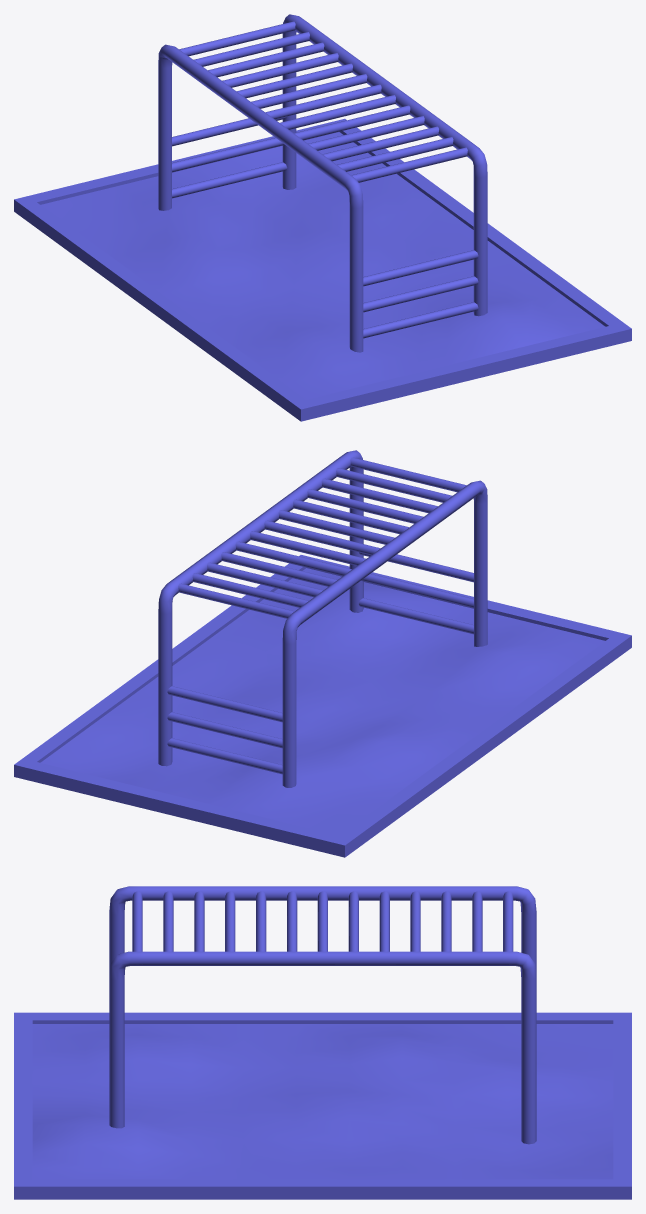
File: pasamanos.fbx
The picture shows the model from 3 angles, top to bottom: view 1: azimuth 30°, elevation 25°; view 2: azimuth 150°, elevation 25°; view 3: azimuth 270°, elevation 25°; orthographic projection. The views are drawn at different scales.
Parts seen in each view (by area): view 1: sm_arena.002, sm_separador_terreno.002, sm_pasamanos.001, sm_pasamanos.004, sm_pasamanos, sm_pasamanos.002, sm_pasamanos.003, sm_pasamanos.005, sm_pasamanos.008, sm_pasamanos.015, sm_pasamanos.009, sm_pasamanos.012 (+11 smaller); view 2: sm_arena.002, sm_separador_terreno.002, sm_pasamanos.001, sm_pasamanos.004, sm_pasamanos.006, sm_pasamanos.007, sm_pasamanos.005, sm_pasamanos, sm_pasamanos.020, sm_pasamanos.008, sm_pasamanos.011, sm_pasamanos.019 (+11 smaller); view 3: sm_arena.002, sm_separador_terreno.002, sm_pasamanos.004, sm_pasamanos.001, sm_pasamanos.008, sm_pasamanos.009, sm_pasamanos.010, sm_pasamanos.012, sm_pasamanos.013, sm_pasamanos.014, sm_pasamanos.016, sm_pasamanos.017 (+5 smaller).
Part boxes in pixels (x1,y1,x2,y2): sm_arena.002: [41, 132, 605, 399]; sm_separador_terreno.002: [14, 118, 631, 421]; sm_pasamanos.001: [158, 44, 363, 352]; sm_pasamanos.004: [282, 14, 487, 316]; sm_pasamanos: [363, 302, 478, 338]; sm_pasamanos.002: [363, 276, 478, 312]; sm_pasamanos.003: [363, 250, 478, 286]; sm_pasamanos.005: [172, 162, 287, 198]; sm_pasamanos.008: [351, 147, 467, 182]; sm_pasamanos.015: [251, 74, 367, 108]; sm_pasamanos.009: [337, 137, 453, 171]; sm_pasamanos.012: [294, 105, 410, 140]; sm_arena.002: [40, 568, 604, 835]; sm_separador_terreno.002: [14, 555, 631, 857]; sm_pasamanos.001: [282, 480, 487, 787]; sm_pasamanos.004: [158, 450, 363, 766]; sm_pasamanos.006: [167, 712, 282, 748]; sm_pasamanos.007: [167, 686, 282, 722]; sm_pasamanos.005: [167, 738, 282, 774]; sm_pasamanos: [359, 598, 473, 634]; sm_pasamanos.020: [178, 583, 294, 618]; sm_pasamanos.008: [350, 457, 466, 492]; sm_pasamanos.011: [307, 489, 423, 523]; sm_pasamanos.019: [192, 573, 308, 607]; sm_arena.002: [32, 1024, 613, 1179]; sm_separador_terreno.002: [14, 1012, 631, 1199]; sm_pasamanos.004: [109, 951, 536, 1144]; sm_pasamanos.001: [109, 886, 536, 975]; sm_pasamanos.008: [132, 891, 142, 951]; sm_pasamanos.009: [163, 891, 173, 951]; sm_pasamanos.010: [194, 891, 204, 951]; sm_pasamanos.012: [256, 891, 266, 951]; sm_pasamanos.013: [287, 891, 297, 951]; sm_pasamanos.014: [317, 891, 327, 951]; sm_pasamanos.016: [379, 891, 389, 951]; sm_pasamanos.017: [410, 891, 420, 951].
Bounding box in the file's own units: 400 × 208 × 600.
